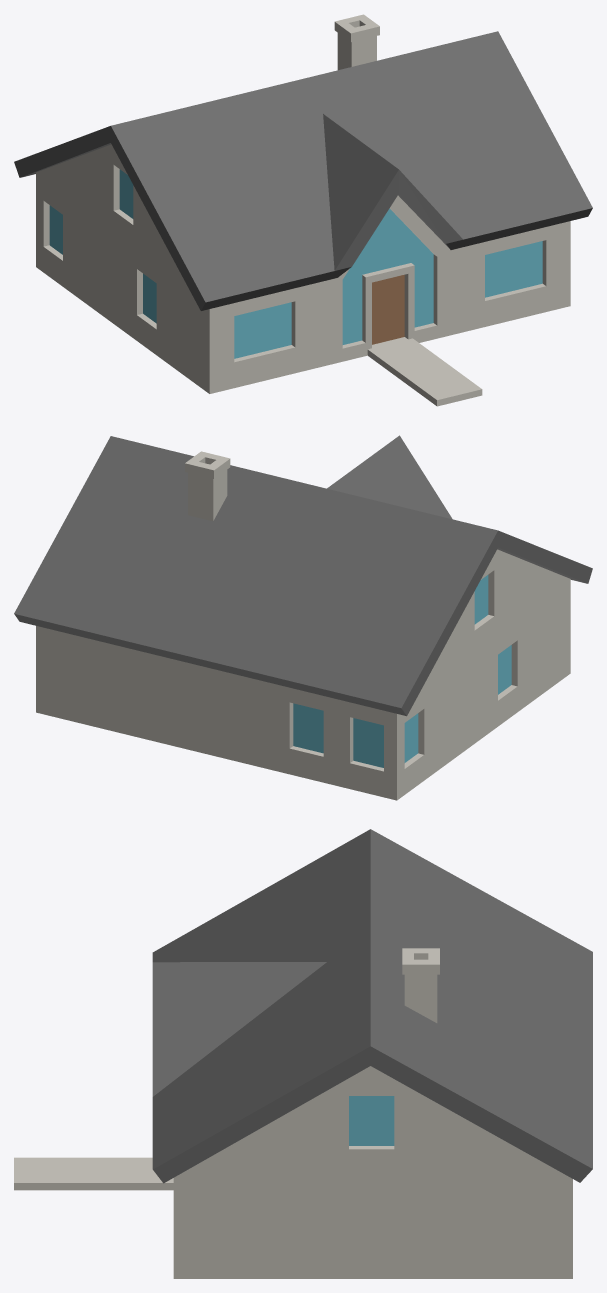
File: house_mid.gltf
3 views of the same model, one above another, from view 1: azimuth 30°, elevation 25°; view 2: azimuth 150°, elevation 25°; view 3: azimuth 270°, elevation 25° (orthographic). The views are drawn at different scales.
Visible parts, largest first — view 1: house-mid_Cube.007, doorway walkup, chimney.002; view 2: house-mid_Cube.007, chimney.002; view 3: house-mid_Cube.007, doorway walkup, chimney.002.
Boxes of the visible parts, box(x1,y1,x2,y2) form: house-mid_Cube.007: box(14, 31, 592, 393); doorway walkup: box(367, 337, 482, 406); chimney.002: box(334, 14, 379, 70); house-mid_Cube.007: box(14, 435, 592, 800); chimney.002: box(185, 451, 230, 521); house-mid_Cube.007: box(152, 829, 592, 1278); doorway walkup: box(14, 1157, 173, 1190); chimney.002: box(402, 948, 439, 1022).
Size of the model in its own units: 6.44 by 3.64 by 7.25.
Materials: 1 (1 with a texture image).
